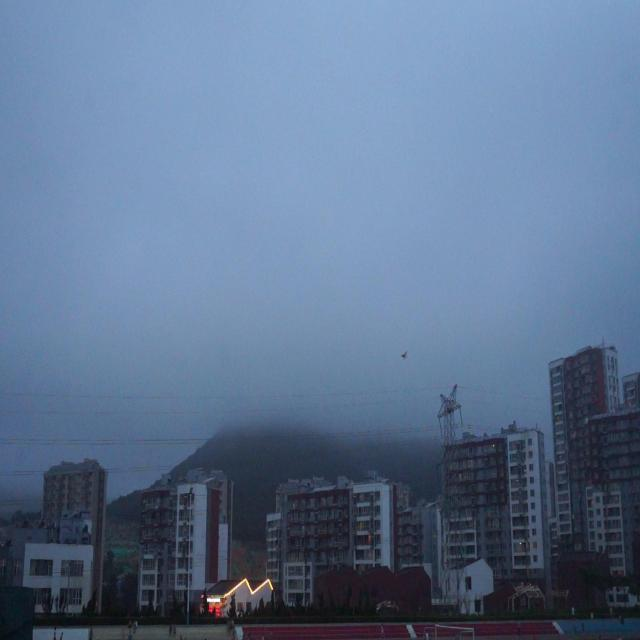drone: (398, 347, 408, 363)
